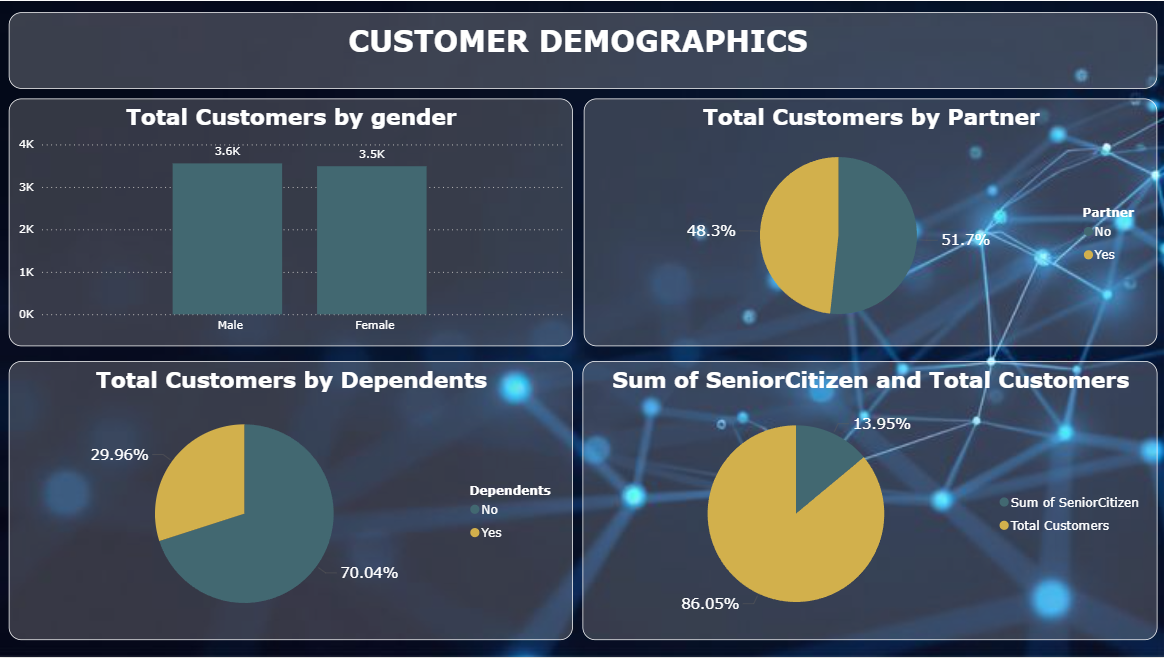

What the dashboard file says about the page in this screenshot:
{"tool":"powerbi","page":{"name":"Page 2","canvas":[1280,720],"ordinal":1},"visuals":[{"type":"pieChart","fields":{"Category":["Telco_Customer_Churn_Dataset  (2).Partner"],"Y":["Calculated Measure.Total Customers"]},"box":[640.8,107,629.8,271.7],"z":2},{"type":"pieChart","fields":{"Category":["Telco_Customer_Churn_Dataset  (2).Dependents"],"Y":["Calculated Measure.Total Customers"]},"box":[9.6,395.2,618.9,306],"z":3},{"type":"pieChart","fields":{"Y":["Sum(Telco_Customer_Churn_Dataset  (2).SeniorCitizen)","Calculated Measure.Total Customers"]},"box":[639.5,395.2,631.2,306],"z":4},{"type":"textbox","box":[9.6,12.3,1261.1,83.7],"z":5},{"type":"columnChart","fields":{"Category":["Telco_Customer_Churn_Dataset  (2).gender"],"Y":["Calculated Measure.Total Customers"]},"box":[9.6,107,618.9,271.7],"z":6}]}

Visuals, with their boxes in screenshot pixels (x1, y1, x2, y2), scaled from the page's 1280x720 canvas onto the 1164x658 screenshot:
pieChart - Telco_Customer_Churn_Dataset  (2).Partner x Calculated Measure.Total Customers: (left=583, top=98, right=1155, bottom=346)
pieChart - Telco_Customer_Churn_Dataset  (2).Dependents x Calculated Measure.Total Customers: (left=9, top=361, right=572, bottom=641)
pieChart - Sum(Telco_Customer_Churn_Dataset  (2).SeniorCitizen) x Calculated Measure.Total Customers: (left=582, top=361, right=1156, bottom=641)
textbox: (left=9, top=11, right=1156, bottom=88)
columnChart - Telco_Customer_Churn_Dataset  (2).gender x Calculated Measure.Total Customers: (left=9, top=98, right=572, bottom=346)
